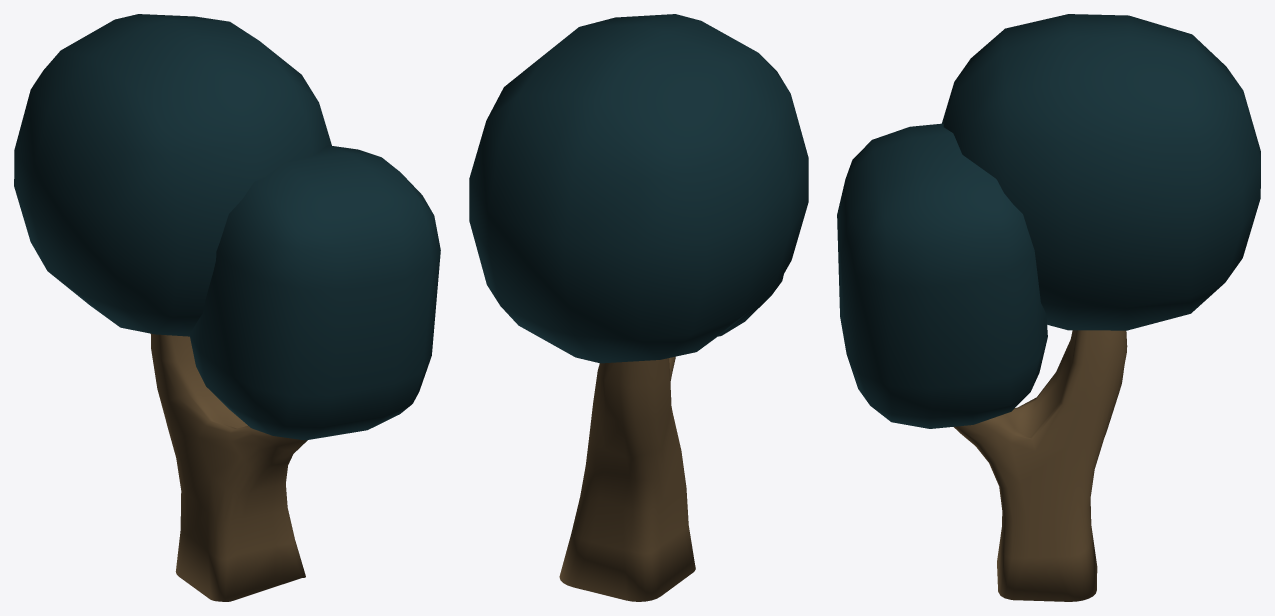
Rendered from TREE.glb.
3 renders of one model, left to right at view 1: azimuth 30°, elevation 25°; view 2: azimuth 150°, elevation 25°; view 3: azimuth 270°, elevation 25°, orthographic. The views are drawn at different scales.
Visible parts, largest first — view 1: boule 2, boule 1, tronc; view 2: boule 2, tronc; view 3: boule 2, boule 1, tronc.
Boxes of the visible parts, box(x1,y1,x2,y2) form: boule 2: box(14, 14, 331, 336); boule 1: box(190, 145, 440, 440); tronc: box(151, 333, 307, 601); boule 2: box(469, 14, 808, 363); tronc: box(559, 356, 695, 601); boule 2: box(942, 14, 1260, 330); boule 1: box(837, 123, 1047, 428); tronc: box(954, 330, 1127, 601).
Bounding box in the file's own units: 4.31 × 7.44 × 5.39.
